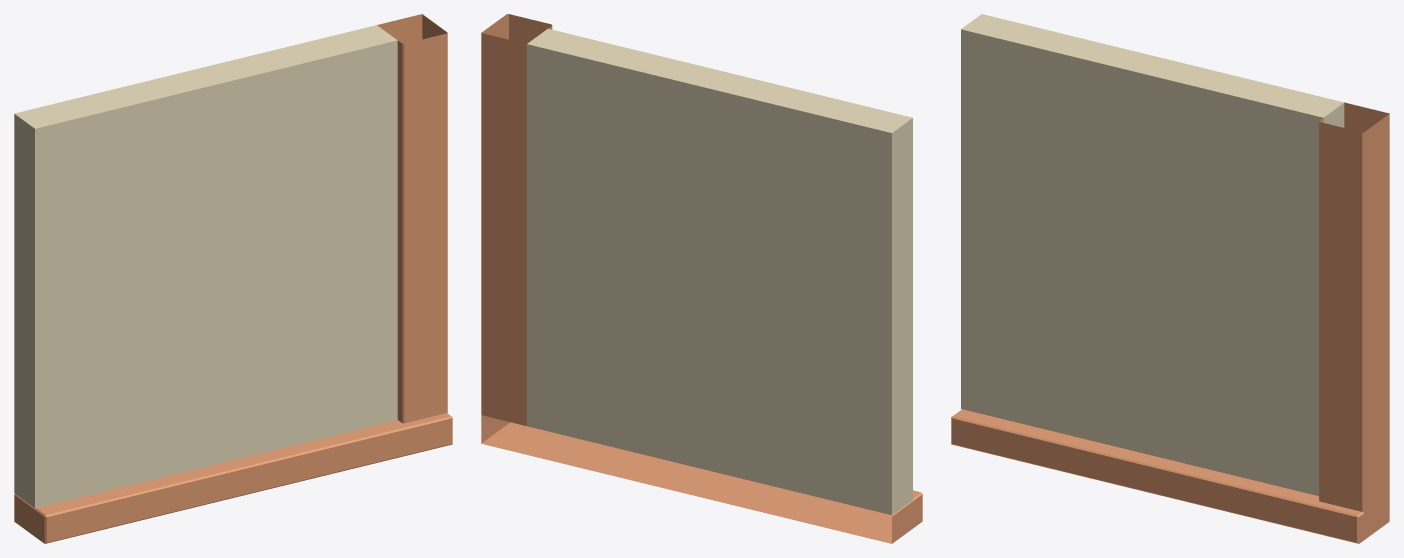
The model's file is Wall0_low.fbx.
3 views of the same model, side by side, from view 1: azimuth 30°, elevation 25°; view 2: azimuth 150°, elevation 25°; view 3: azimuth 330°, elevation 25° (orthographic).
Parts seen in each view (by area): view 1: Wall1_low, Wall1_woodplank1_low; view 2: Wall1_low, Wall1_woodplank1_low; view 3: Wall1_low, Wall1_woodplank1_low.
Part boxes in pixels (x1,y1,x2,y2): Wall1_low: (14, 25, 397, 508); Wall1_woodplank1_low: (14, 14, 452, 543); Wall1_low: (526, 28, 912, 515); Wall1_woodplank1_low: (481, 14, 922, 543); Wall1_low: (961, 14, 1344, 495); Wall1_woodplank1_low: (951, 102, 1389, 543).
Size of the model in its own units: 450 by 430 by 60.02.
